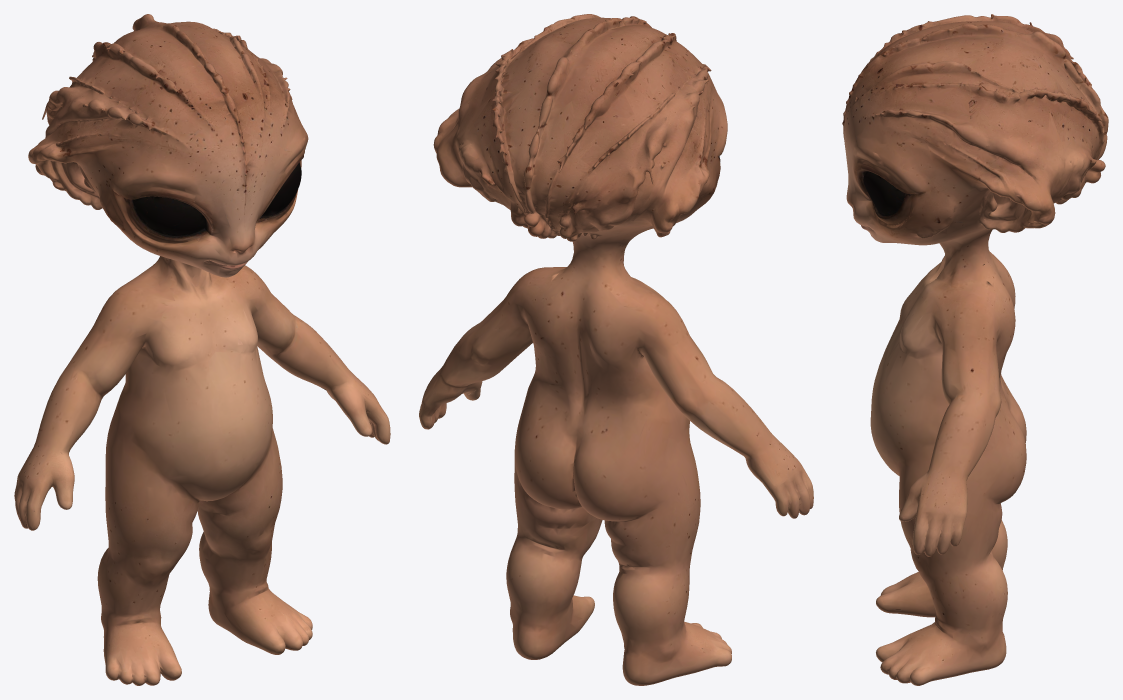
Rendered from corps_web.glb.
The picture shows the model from 3 angles, left to right: view 1: azimuth 30°, elevation 25°; view 2: azimuth 150°, elevation 25°; view 3: azimuth 270°, elevation 25°; orthographic projection. The views are drawn at different scales.
Visible parts, largest first — view 1: APOT_corps; view 2: APOT_corps; view 3: APOT_corps.
Boxes of the visible parts, x1=… form: APOT_corps: x1=14, y1=14, x2=390, y2=685; APOT_corps: x1=419, y1=14, x2=813, y2=685; APOT_corps: x1=842, y1=14, x2=1108, y2=685.
Size of the model in its own units: 0.56 by 0.89 by 0.3489.
Materials: 1 (1 with a texture image).
